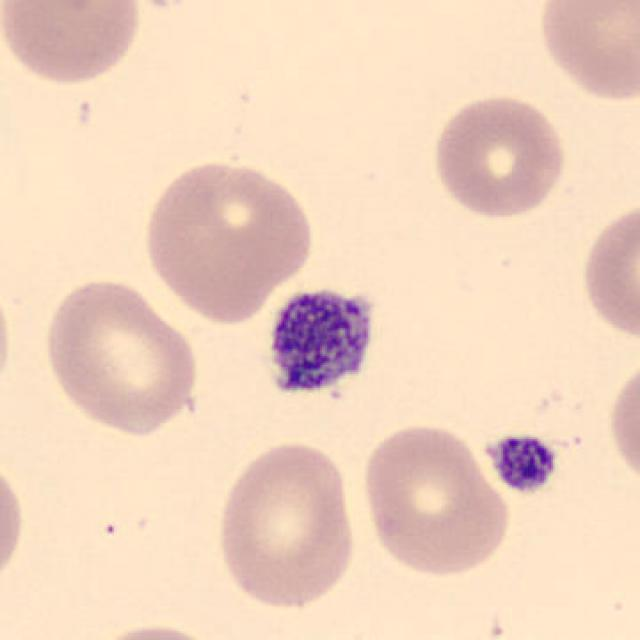Platelets: (258, 280, 382, 409), (485, 430, 562, 496)
RBC: (137, 155, 318, 325), (37, 274, 203, 438), (211, 437, 361, 614), (357, 420, 514, 580), (426, 90, 570, 222), (0, 0, 146, 88), (532, 0, 638, 104), (576, 196, 640, 346), (604, 351, 640, 495), (0, 451, 28, 594), (82, 619, 231, 640), (0, 268, 16, 414)
